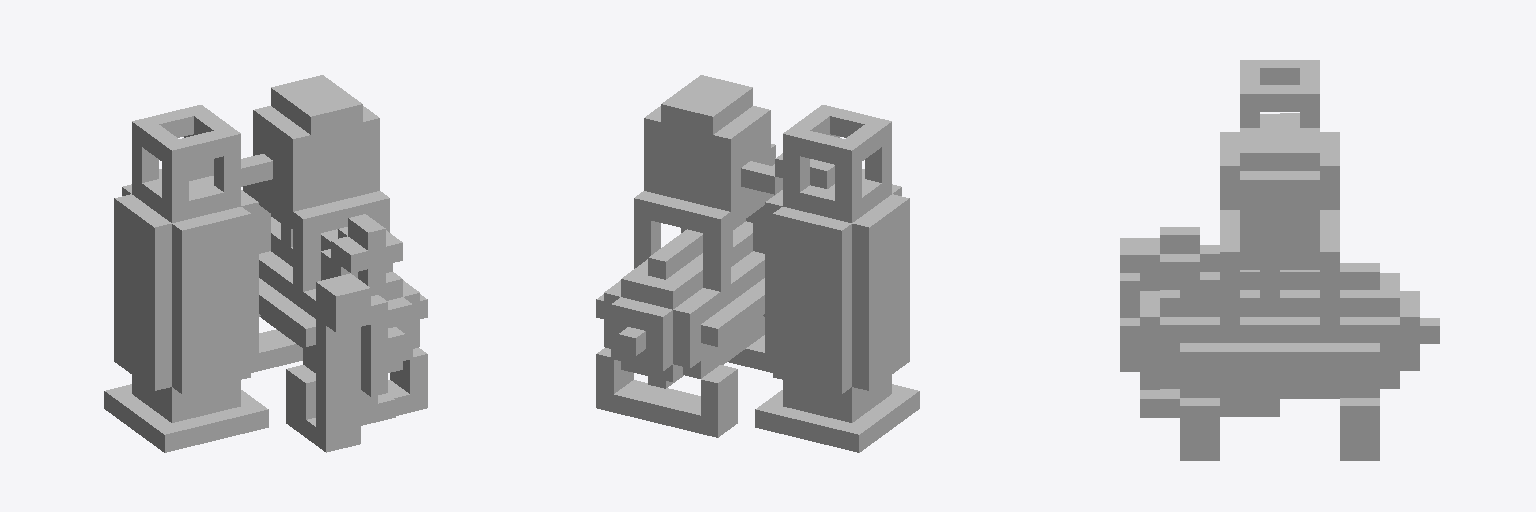
Rendered from more_appliances_air_compressor.obj.
3 renders of one model, left to right at view 1: azimuth 30°, elevation 25°; view 2: azimuth 150°, elevation 25°; view 3: azimuth 270°, elevation 25°, orthographic.
Visible parts, largest first — view 1: node_0_0_0; view 2: node_0_0_0; view 3: node_0_0_0.
Part boxes in pixels (left/top/right/bottom): node_0_0_0: left=104, top=75, right=427, bottom=452; node_0_0_0: left=596, top=75, right=919, bottom=452; node_0_0_0: left=1120, top=60, right=1439, bottom=460.
Bounding box in the file's own units: 0.875 × 1 × 1.